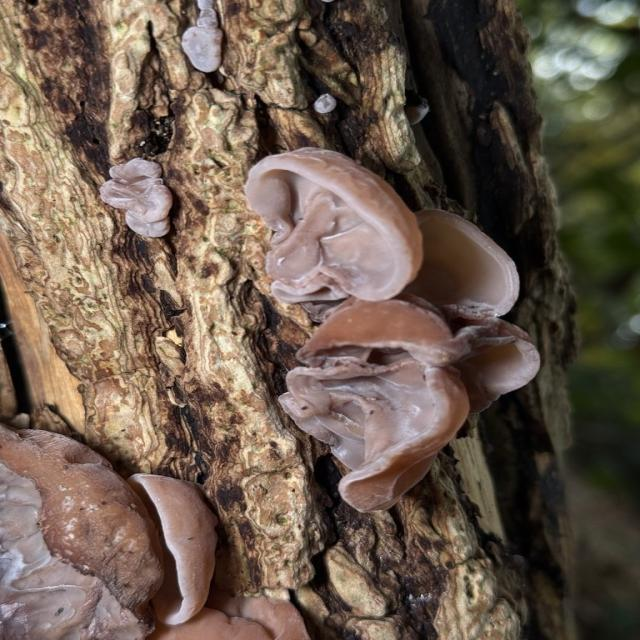Fase Muda: (244, 144, 426, 305), (410, 206, 522, 317), (98, 157, 174, 238), (178, 0, 225, 73)
Matang: (275, 297, 543, 515), (0, 417, 158, 640), (129, 472, 220, 625)
primordia: (312, 93, 337, 114)
